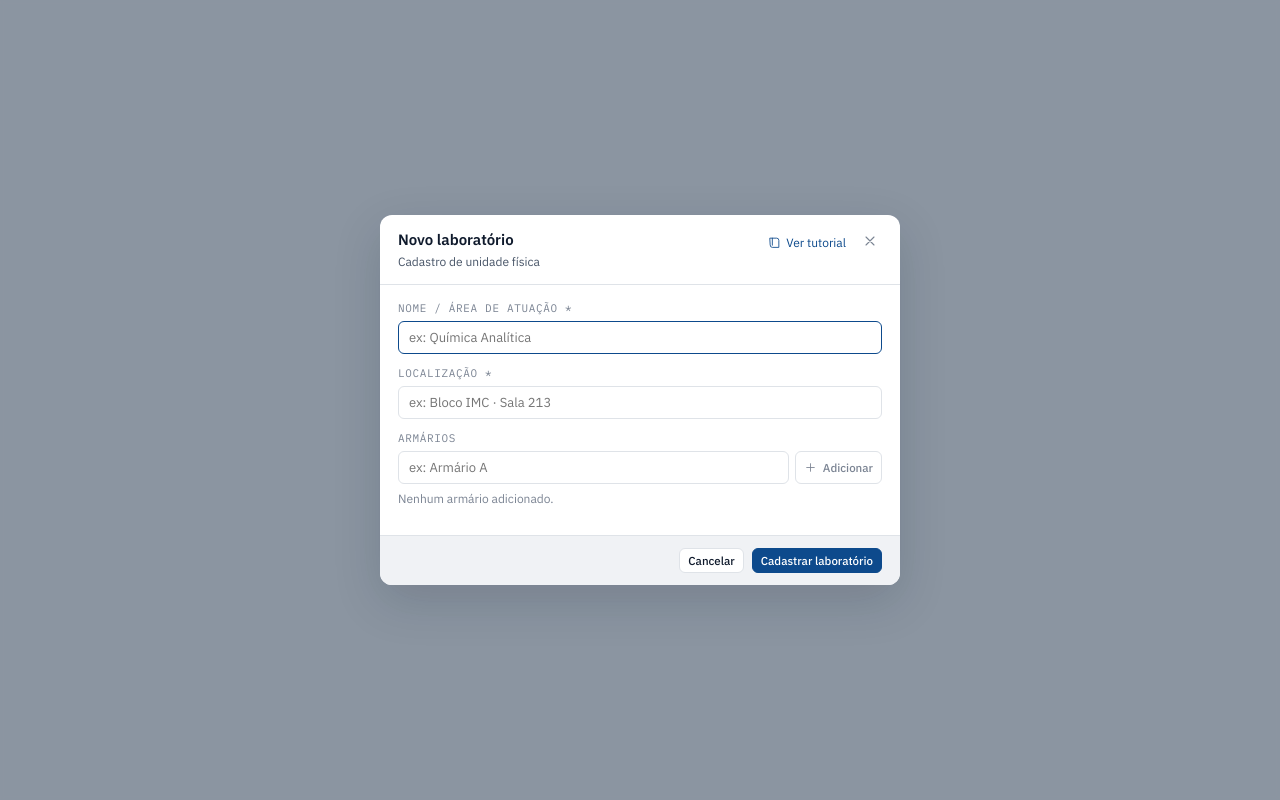
Test: FormNovoLab — entradas inválidas › exibe mensagem de erro do servidor (400 de validação)
Type "Lab X" into the field labelled "Nome / área de atuação *" at {"x": 640, "y": 337}, box [398, 321, 882, 354]
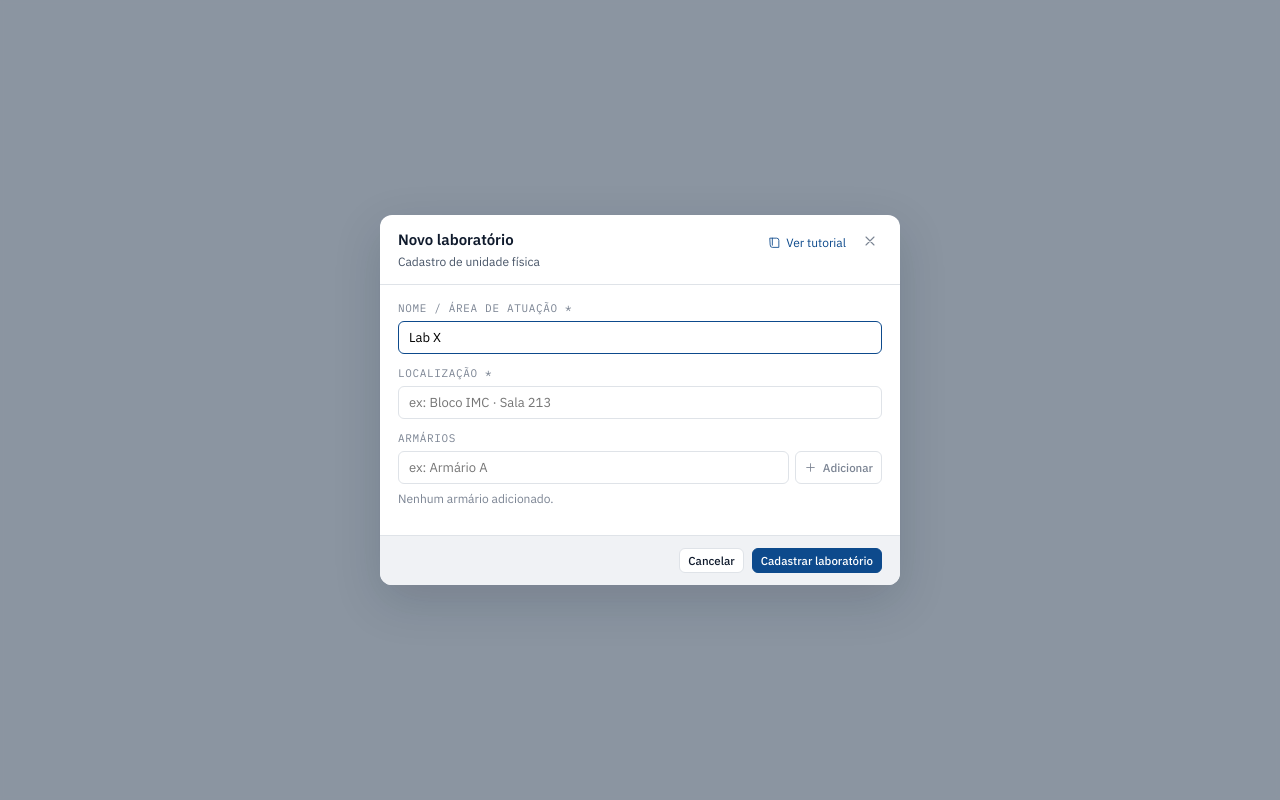
Type "Bloco IMC · Sala 12" into the field labelled "Localização *" at {"x": 640, "y": 402}, box [398, 386, 882, 419]
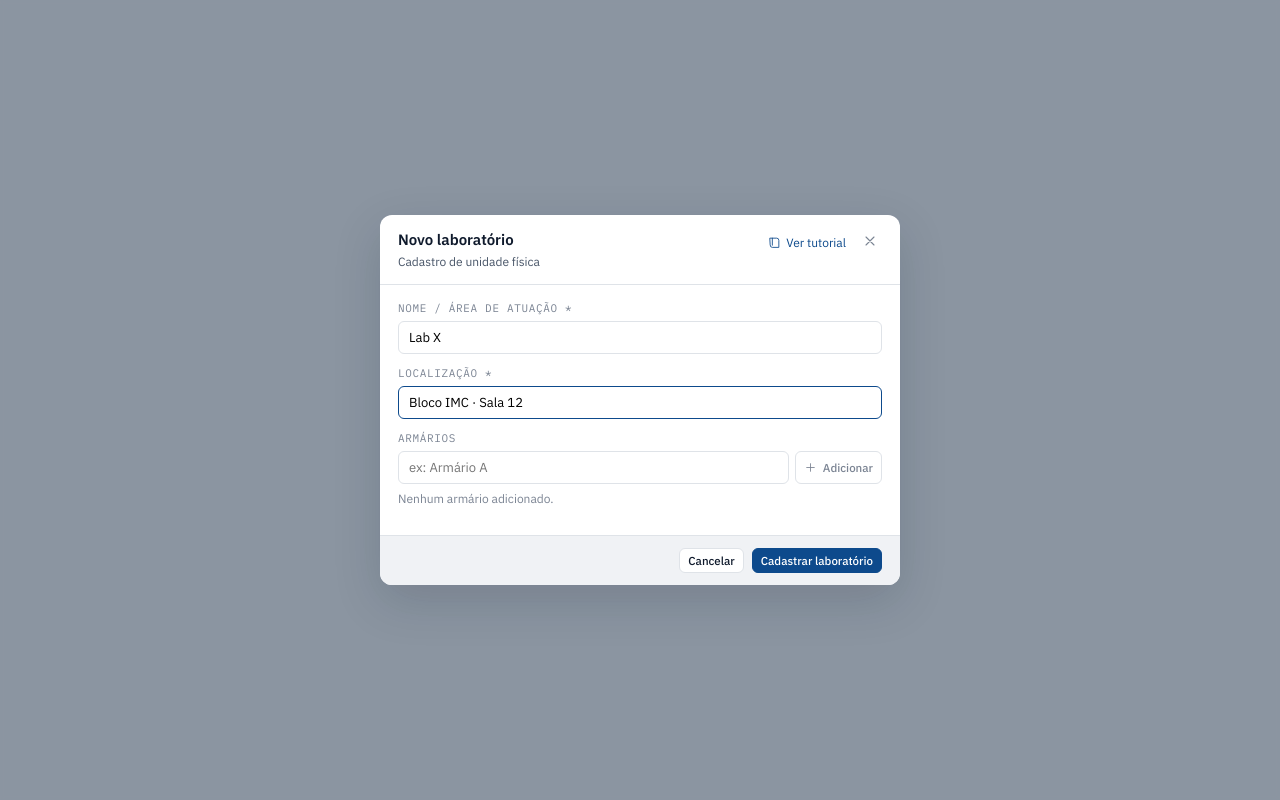
Click the button "Cadastrar laboratório" at {"x": 817, "y": 561}, box [752, 548, 882, 573]
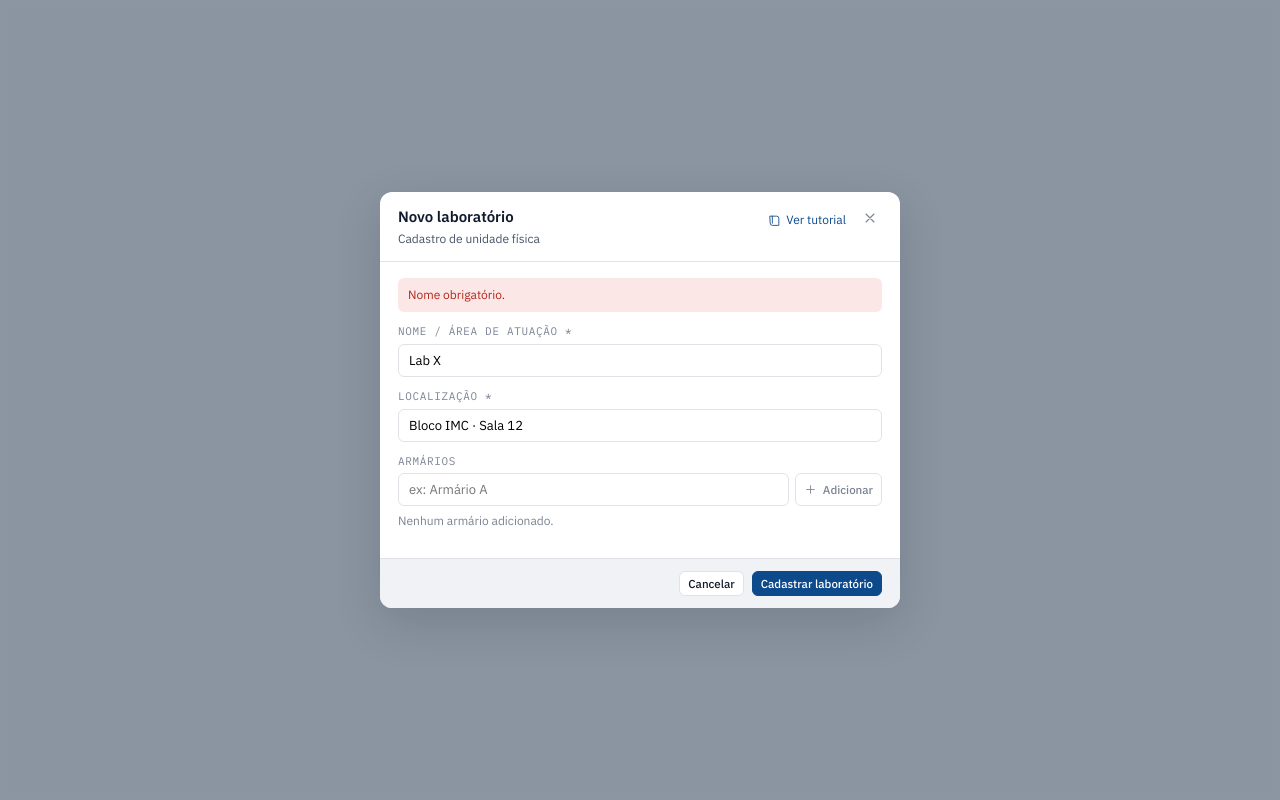
Expected: the text "Nome obrigatório." is shown, [398, 278, 882, 312]
